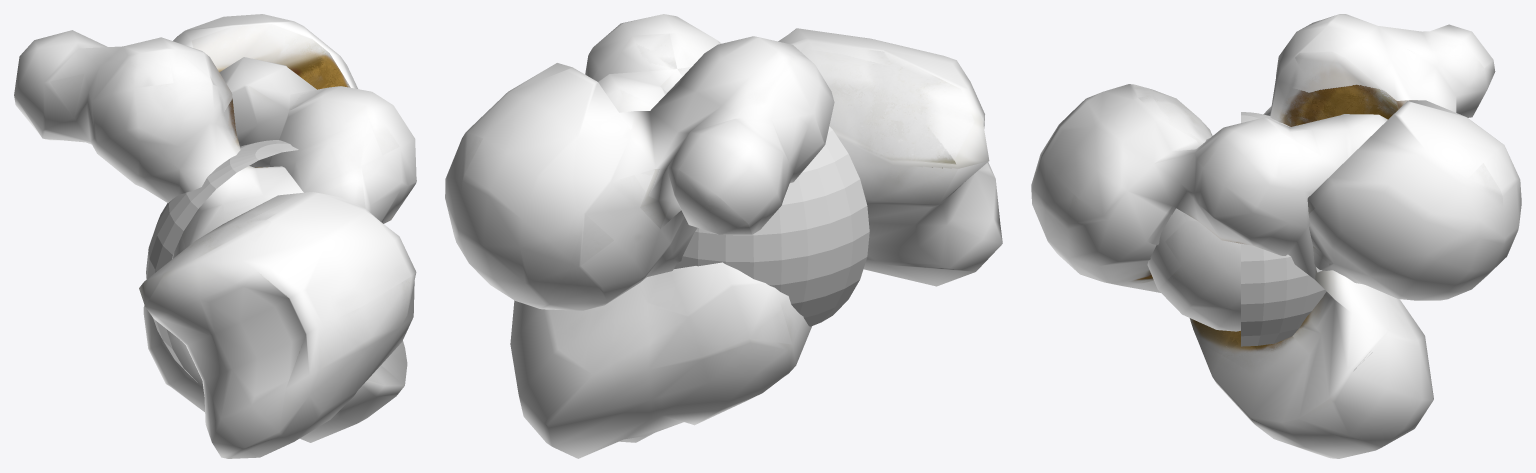
Rendered from pop.gltf.
3 renders of one model, left to right at view 1: azimuth 30°, elevation 25°; view 2: azimuth 150°, elevation 25°; view 3: azimuth 270°, elevation 25°, orthographic. The views are drawn at different scales.
Parts seen in each view (by area): view 1: popcorn1, popcorn2, emitter; view 2: popcorn1, popcorn2, emitter; view 3: popcorn1, popcorn2, emitter.
Boxes of the visible parts, x1=… form: popcorn1: x1=139, y1=57, x2=416, y2=458; popcorn2: x1=14, y1=14, x2=357, y2=258; emitter: x1=146, y1=140, x2=298, y2=382; popcorn1: x1=510, y1=14, x2=1002, y2=458; popcorn2: x1=445, y1=36, x2=834, y2=310; emitter: x1=674, y1=126, x2=869, y2=326; popcorn1: x1=1031, y1=84, x2=1433, y2=458; popcorn2: x1=1147, y1=14, x2=1521, y2=331; emitter: x1=1241, y1=112, x2=1326, y2=346.
Bounding box in the file's own units: 0.2048 × 0.2336 × 0.2818.
2 materials, 2 textured.
